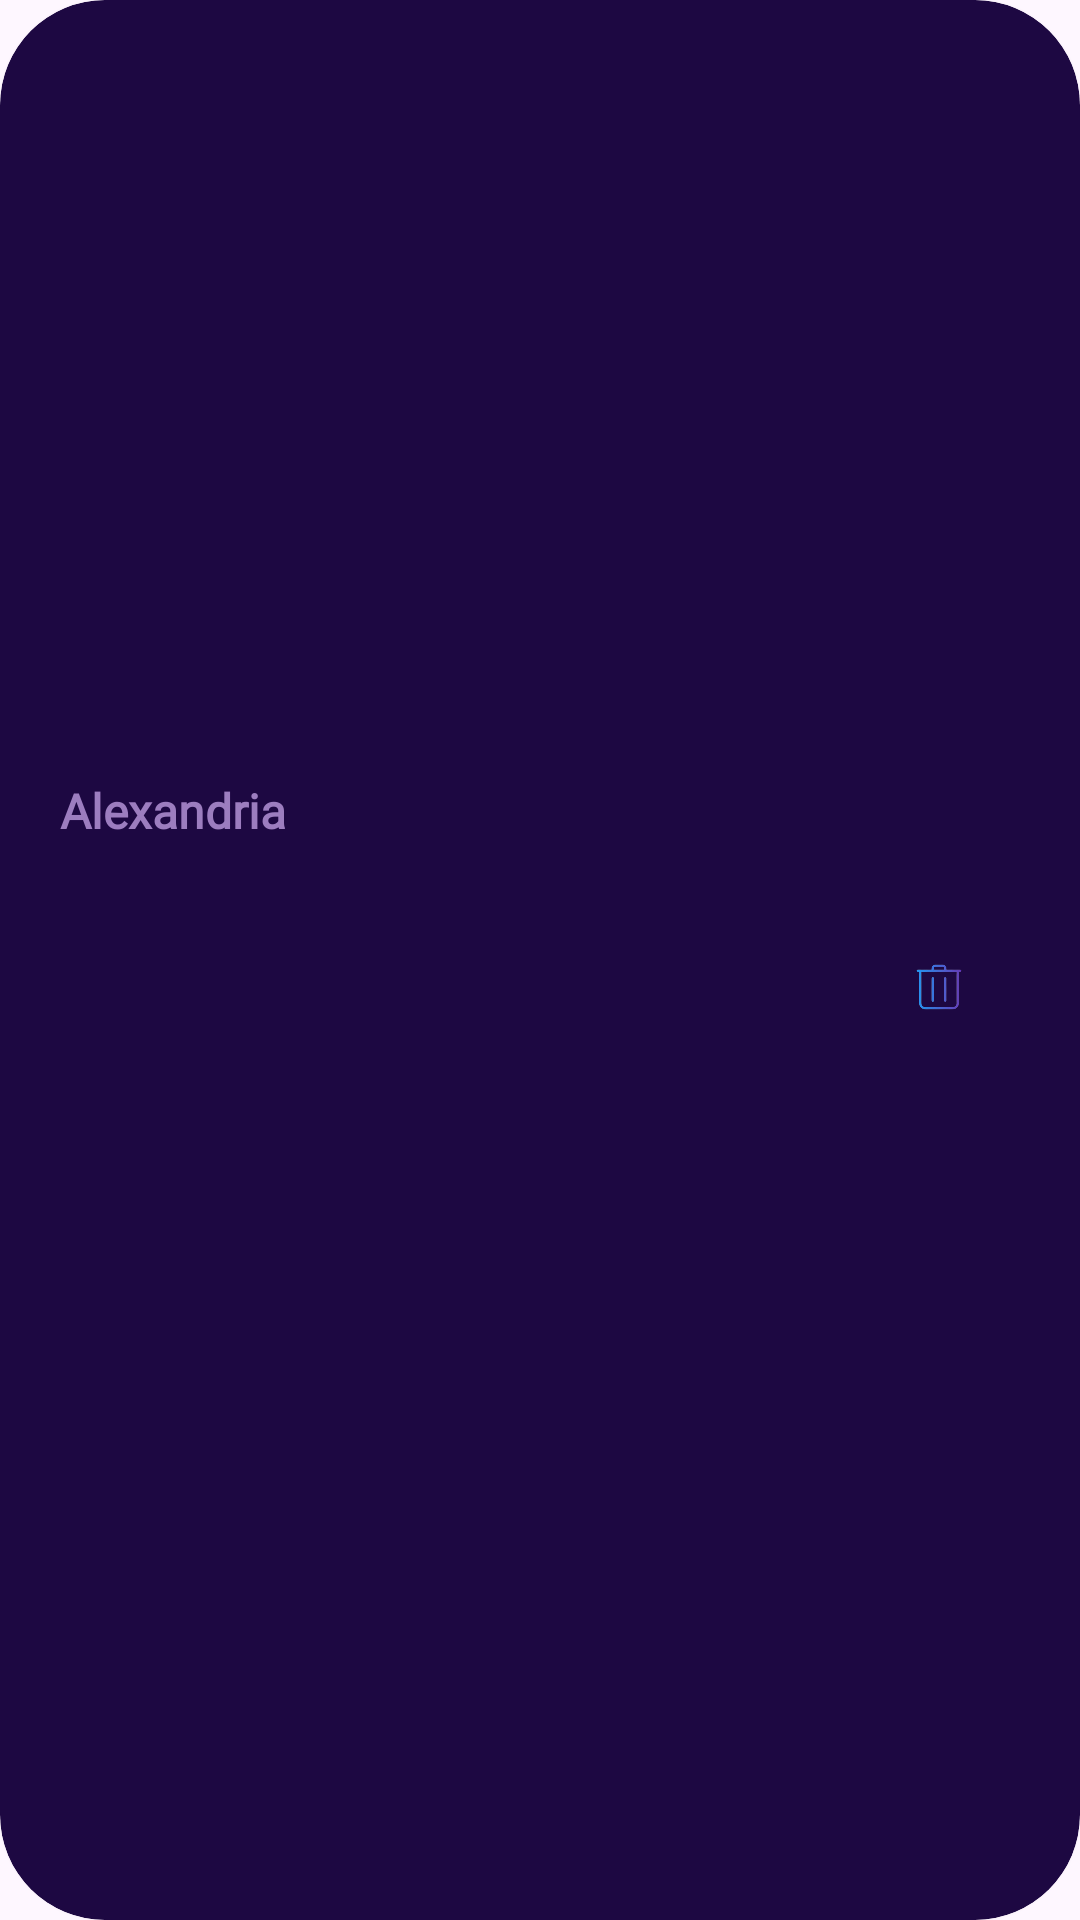

Icons on this 1080px×1920px Android screen, each with its box as rect(x1, y1, x2, y2):
delete: rect(917, 964, 961, 1010)
